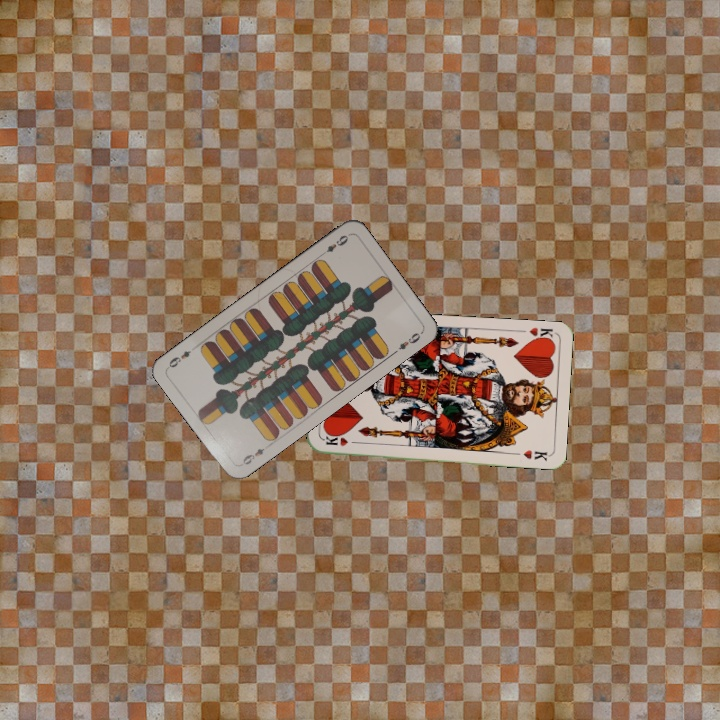E9: (317, 230, 352, 258), (239, 441, 272, 467)
HK: (321, 432, 362, 449), (526, 323, 556, 344)
